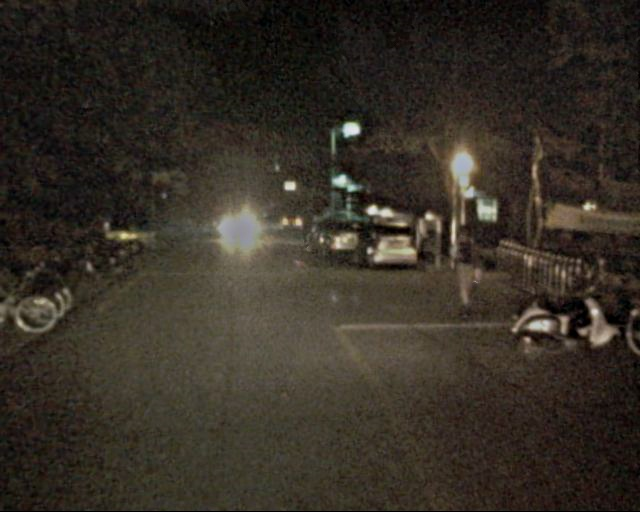person: (448, 227, 482, 309)
